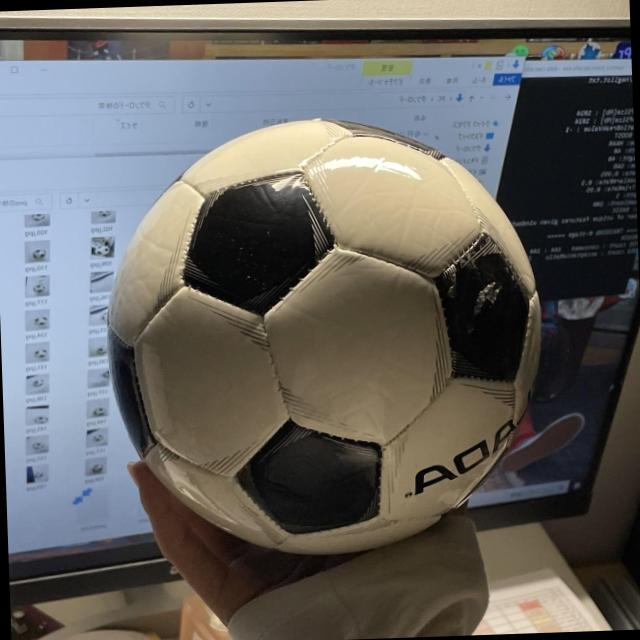Soccer Ball: (98, 111, 552, 561)
